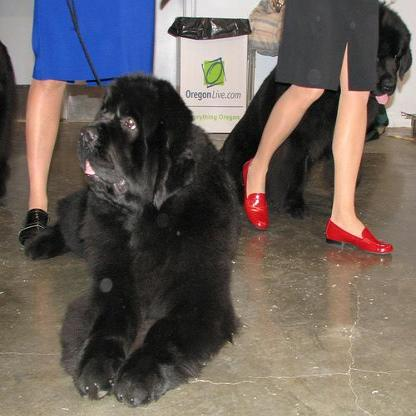Newfoundland: (24, 74, 242, 405), (217, 5, 411, 222)
